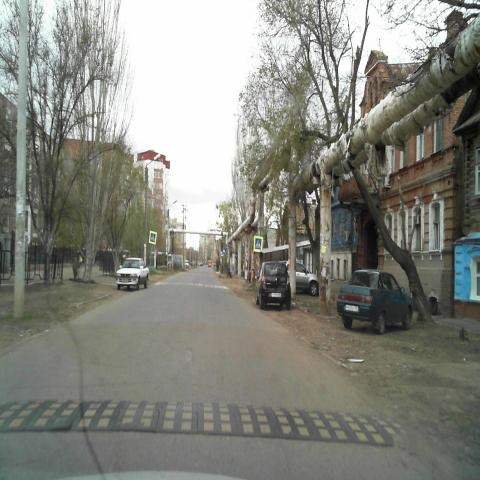5_19_1: (253, 236, 262, 251), (149, 231, 156, 244)
